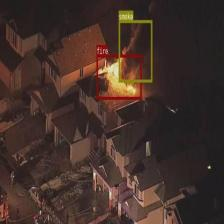fire: (96, 55, 142, 99)
smoke: (119, 20, 152, 82)
